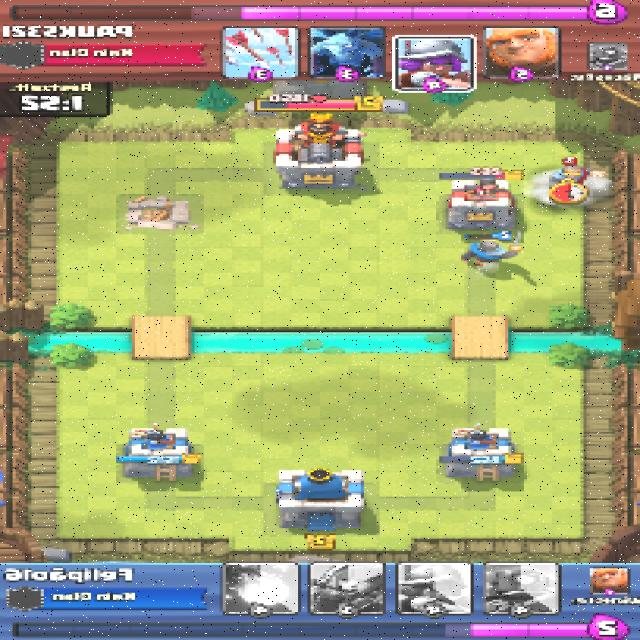Enemy-Knight: (548, 165, 609, 194)
Player-Knight: (459, 238, 527, 266)
